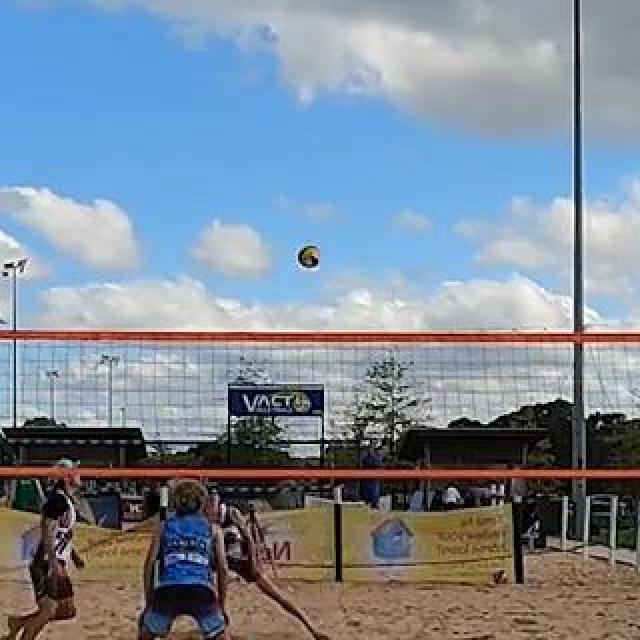volleyball: (298, 246, 320, 268), (493, 569, 507, 585)
